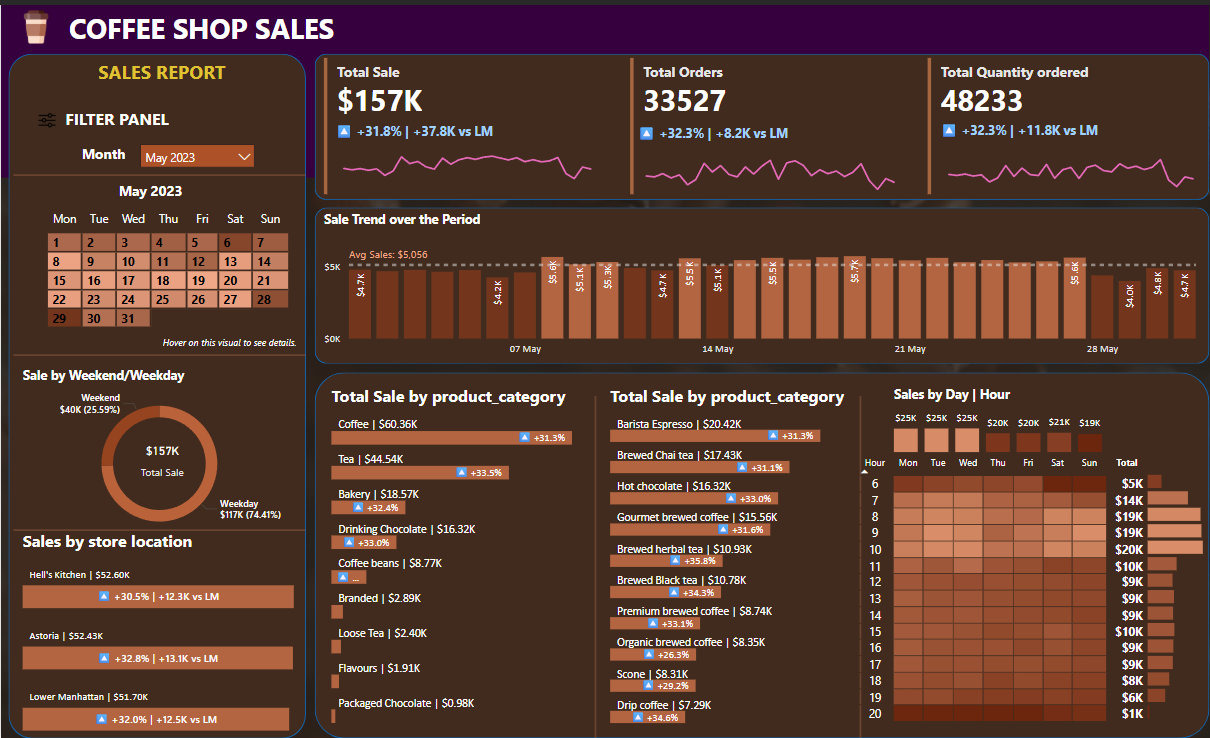

The page's visual inventory and layout, read from the dashboard file:
{"tool":"powerbi","page":{"name":"Page 1","canvas":[1400,850],"ordinal":0},"visuals":[{"type":"shape","box":[0,0,1400.3,200.3],"z":0},{"type":"cardVisual","fields":{"Data":["Coffee_sale.Total Quanity ordered"]},"box":[1069,56.9,326.5,168.8],"z":0,"group":"g3"},{"type":"cardVisual","fields":{"Data":["Coffee_sale.Total Sale"]},"box":[369.6,57,329.7,168.8],"z":0,"group":"g1"},{"type":"cardVisual","fields":{"Data":["Coffee_sale.Total Orders"]},"box":[724.4,57,326.6,168.8],"z":0,"group":"g2"},{"type":"pivotTable","fields":{"Columns":["Date Table.Day Name"],"Values":["Min(Date Table.Day Number)"],"Rows":["Date Table.Week Number"]},"box":[23.6,232.7,326.6,197.3],"z":0,"group":"g4"},{"type":"pivotTable","fields":{"Rows":["Coffee_sale.Hour column"],"Columns":["Date Table.Day Name"],"Values":["Coffee_sale.Total Sale"]},"box":[986,518.3,382.8,319.5],"z":0,"group":"g7"},{"type":"shape","box":[8.8,56,344.6,793.7],"z":1000},{"type":"lineChart","fields":{"Category":["Date Table.Date Hierarchy.Date"],"Y":["Coffee_sale.Total Quanity ordered"]},"box":[1084.1,134.8,313.1,85.9],"z":1000,"group":"g3"},{"type":"lineChart","fields":{"Category":["Date Table.Date Hierarchy.Date"],"Y":["Coffee_sale.Total Sale"]},"box":[383.1,136.7,316.2,85.9],"z":1000,"group":"g1"},{"type":"lineChart","fields":{"Category":["Date Table.Date Hierarchy.Date"],"Y":["Coffee_sale.Total Orders"]},"box":[733.8,138.2,317.2,82.8],"z":1000,"group":"g2"},{"type":"card","fields":{"Values":["Min(Date Table.Month Year)"]},"box":[118.7,200.3,109.4,35.5],"z":1000,"group":"g4"},{"type":"barChart","fields":{"Y":["Coffee_sale.Total Sale"],"Category":["Coffee_sale.Hour column"]},"box":[1323.2,531.6,75.1,300.4],"z":1000,"group":"g7"},{"type":"shape","box":[363.7,56,1036.6,169.3],"z":2000},{"type":"columnChart","title":"Sales by Day | Hour","fields":{"Y":["Coffee_sale.Total Sale"],"Category":["Date Table.Day Name"]},"box":[1030.2,440.3,251.8,83.9],"z":2000,"group":"g7"},{"type":"textbox","box":[73.6,0,323.9,76.6],"z":3000},{"type":"slicer","fields":{"Values":["Date Table.Month Year"]},"box":[156.1,156.1,142.8,70.7],"z":4000},{"type":"group","id":"g1","title":"Group 1","box":[369.6,57,329.7,168.8],"z":5000},{"type":"group","id":"g2","title":"Group 1","box":[724.4,57,326.6,168.8],"z":6000},{"type":"group","id":"g3","title":"Group 1","box":[1069,56.9,328.1,168.8],"z":7000},{"type":"shape","box":[14.7,187,338.7,20.6],"z":8000},{"type":"group","id":"g4","title":"Group 2","box":[23.6,200.3,326.6,229.7],"z":8000,"group":"g6"},{"type":"card","fields":{"Values":["Coffee_sale.Foot Note"]},"box":[173.8,374,182.6,39.8],"z":9000,"group":"g6"},{"type":"shape","box":[14.7,396.1,338.7,20.6],"z":9000},{"type":"shape","box":[14.7,597.8,338.7,20.6],"z":10000},{"type":"clusteredBarChart","title":"Sales by store location","fields":{"Category":["Coffee_sale.store_location"],"Y":["Coffee_sale.Placeholder","Coffee_sale.Total Sale"]},"box":[20.6,608.1,351.9,241.5],"z":11000},{"type":"shape","box":[363.7,234.1,1036.6,181.1],"z":12000},{"type":"donutChart","title":"Sale by Weekend/Weekday","fields":{"Category":["Date Table.Weekend/Weekday"],"Y":["Coffee_sale.Total Sale"]},"box":[20.6,418.7,326.9,206.1],"z":12000,"group":"g5"},{"type":"columnChart","title":"Sale Trend over the Period","fields":{"Category":["Coffee_sale.transaction_date"],"Y":["Coffee_sale.Total Sale"]},"box":[369.6,237.1,1026.3,178.2],"z":13000},{"type":"card","fields":{"Values":["Coffee_sale.Total Sale"]},"box":[122.2,487.9,131,76.6],"z":13000,"group":"g5"},{"type":"group","id":"g5","title":"Group 3","box":[20.6,418.7,326.9,206.1],"z":14000},{"type":"group","id":"g6","title":"Group 4","box":[23.6,200.3,332.8,229.7],"z":15000},{"type":"shape","box":[363.7,425.5,1036.6,424.1],"z":16000},{"type":"clusteredBarChart","title":"Total Sale by product_category","fields":{"Category":["Coffee_sale.product_category"],"Y":["Coffee_sale.Placeholder","Coffee_sale.Total Sale"]},"box":[378.4,440.3,322.5,397.6],"z":17000},{"type":"shape","box":[681.7,453.5,13.3,396.1],"z":18000},{"type":"shape","box":[989.5,453.5,13.3,396.1],"z":19000},{"type":"clusteredBarChart","title":"Total Sale by product_category","fields":{"Y":["Coffee_sale.Placeholder","Coffee_sale.Total Sale"],"Category":["Coffee_sale.product_type"]},"box":[700.9,440.3,294.5,397.6],"z":20000},{"type":"group","id":"g7","title":"Group 5","box":[986,440.3,412.3,397.6],"z":21000},{"type":"textbox","box":[73.6,156.1,89.8,51.5],"z":22000},{"type":"textbox","box":[73.6,57.4,225.3,44.2],"z":23000},{"type":"textbox","box":[57.4,114.9,153.1,41.2],"z":24000},{"type":"image","box":[1.5,1.5,78,48.6],"z":25000},{"type":"image","box":[29.4,119.3,48.6,29.4],"z":26000}]}

Visuals, with their boxes in screenshot pixels (x1, y1, x2, y2), scaled from the page's 1400x850 canvas onto the 1210x738 screenshot:
shape: 0, 0, 1209, 174
cardVisual - Coffee_sale.Total Quanity ordered: 924, 49, 1206, 196
cardVisual - Coffee_sale.Total Sale: 319, 49, 604, 196
cardVisual - Coffee_sale.Total Orders: 626, 49, 908, 196
pivotTable - Date Table.Day Name x Min(Date Table.Day Number): 20, 202, 303, 373
pivotTable - Coffee_sale.Hour column x Date Table.Day Name: 852, 450, 1183, 727
shape: 8, 49, 305, 737
lineChart - Date Table.Date Hierarchy.Date x Coffee_sale.Total Quanity ordered: 937, 117, 1208, 192
lineChart - Date Table.Date Hierarchy.Date x Coffee_sale.Total Sale: 331, 119, 604, 193
lineChart - Date Table.Date Hierarchy.Date x Coffee_sale.Total Orders: 634, 120, 908, 192
card - Min(Date Table.Month Year): 103, 174, 197, 205
barChart - Coffee_sale.Total Sale x Coffee_sale.Hour column: 1144, 462, 1209, 722
shape: 314, 49, 1209, 196
"Sales by Day | Hour" columnChart: 890, 382, 1108, 455
textbox: 64, 0, 344, 67
slicer - Date Table.Month Year: 135, 136, 258, 197
"Group 1" group: 319, 49, 604, 196
"Group 1" group: 626, 49, 908, 196
"Group 1" group: 924, 49, 1207, 196
shape: 13, 162, 305, 180
"Group 2" group: 20, 174, 303, 373
card - Coffee_sale.Foot Note: 150, 325, 308, 359
shape: 13, 344, 305, 362
shape: 13, 519, 305, 537
"Sales by store location" clusteredBarChart: 18, 528, 322, 737
shape: 314, 203, 1209, 360
"Sale by Weekend/Weekday" donutChart: 18, 364, 300, 542
"Sale Trend over the Period" columnChart: 319, 206, 1206, 361
card - Coffee_sale.Total Sale: 106, 424, 219, 490
"Group 3" group: 18, 364, 300, 542
"Group 4" group: 20, 174, 308, 373
shape: 314, 369, 1209, 737
"Total Sale by product_category" clusteredBarChart: 327, 382, 606, 727
shape: 589, 394, 601, 737
shape: 855, 394, 867, 737
"Total Sale by product_category" clusteredBarChart: 606, 382, 860, 727
"Group 5" group: 852, 382, 1209, 727
textbox: 64, 136, 141, 180
textbox: 64, 50, 258, 88
textbox: 50, 100, 182, 136
image: 1, 1, 69, 43
image: 25, 104, 67, 129
